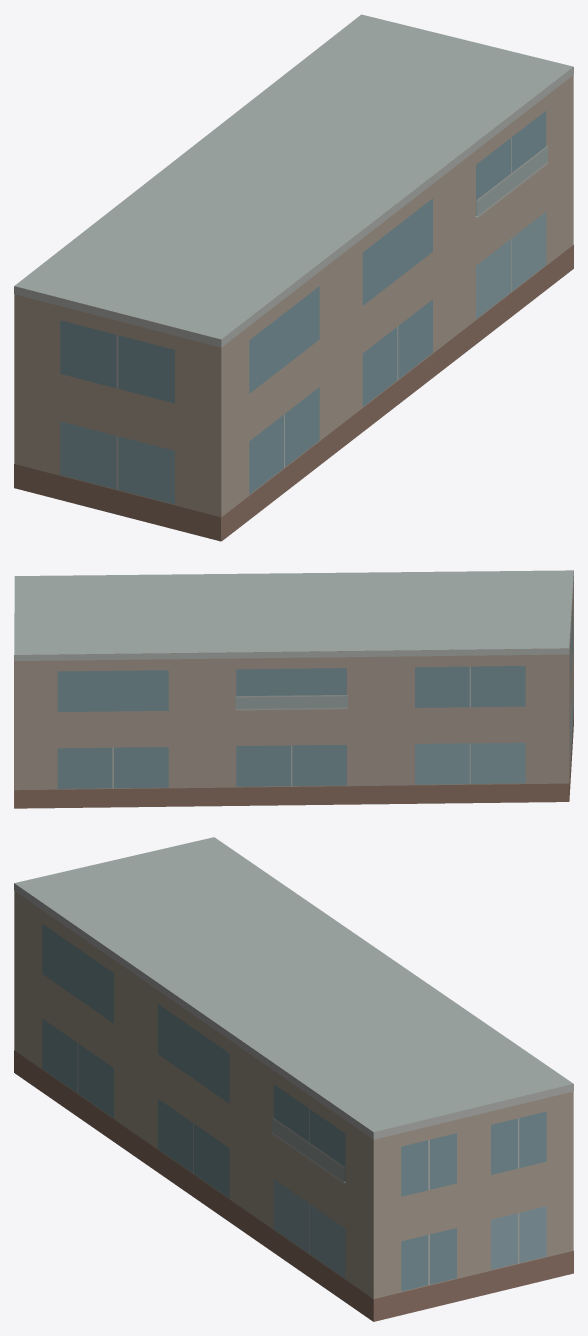
The model's file is survey-upis-32881510.glb.
The picture shows the model from 3 angles, top to bottom: view 1: azimuth 30°, elevation 25°; view 2: azimuth 150°, elevation 25°; view 3: azimuth 270°, elevation 25°; orthographic projection. The views are drawn at different scales.
Parts seen in each view (by area): view 1: survey-upis-32881510.tmp; view 2: survey-upis-32881510.tmp; view 3: survey-upis-32881510.tmp.
Boxes of the visible parts, <box> form: survey-upis-32881510.tmp: <box>14,14,573,541</box>; survey-upis-32881510.tmp: <box>14,570,573,808</box>; survey-upis-32881510.tmp: <box>14,837,573,1321</box>.
Bounding box in the file's own units: 20.38 × 6.1 × 16.33.
